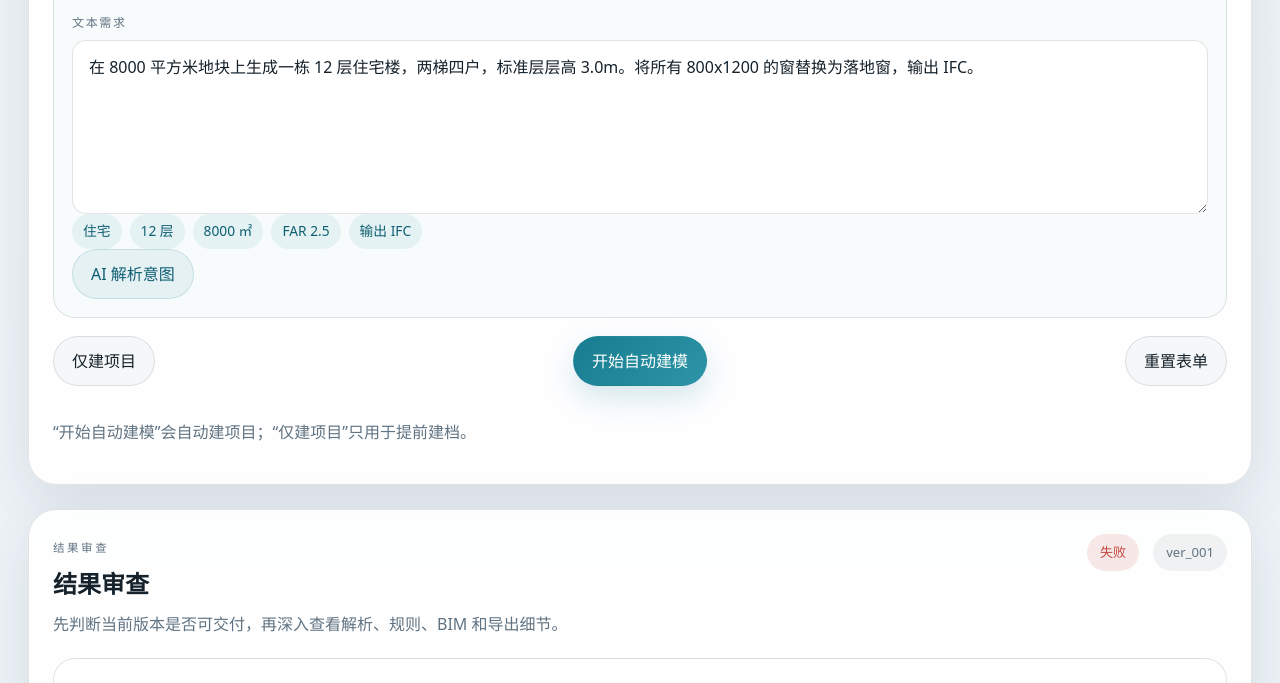
Test: App › shows a clear backend unavailable message when health check fails
The image size is (1280, 683).
(page scrolled)
Click the button "开始自动建模" at (640, 361), box x1=573 y1=336 x2=707 y2=386
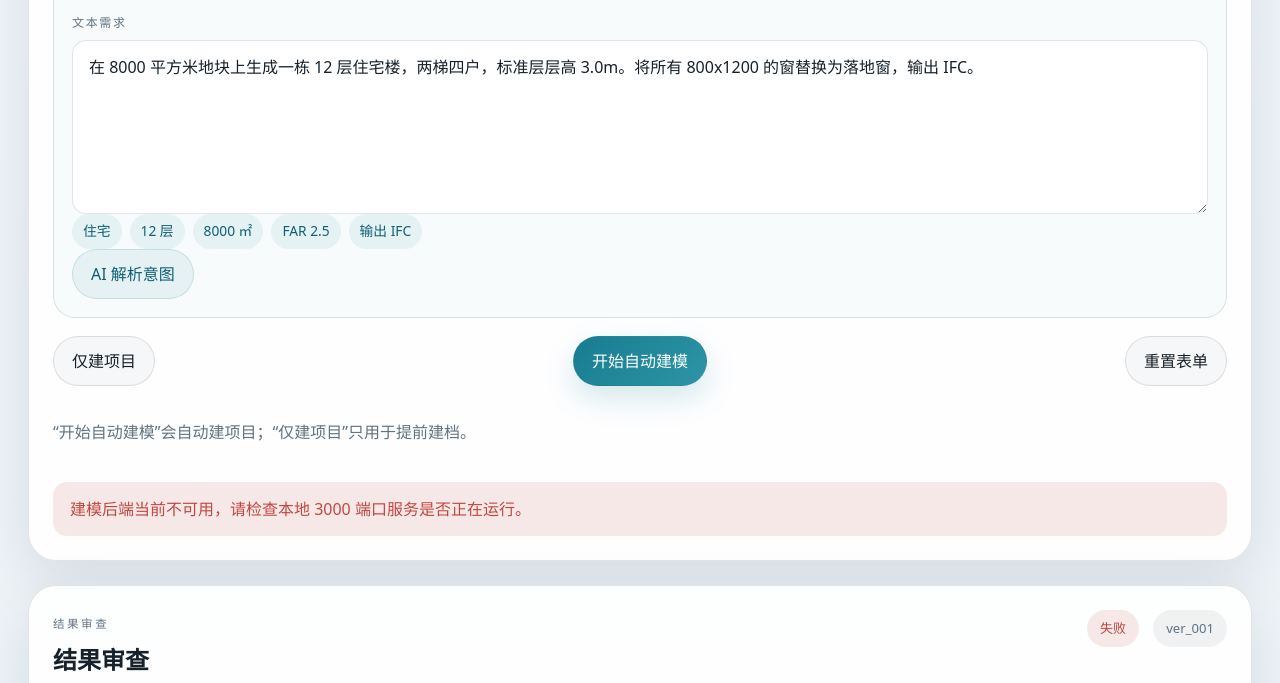
Now the text "建模后端当前不可用，请检查本地 3000 端口服务是否正在运行。" is shown, box x1=53 y1=482 x2=1227 y2=536
